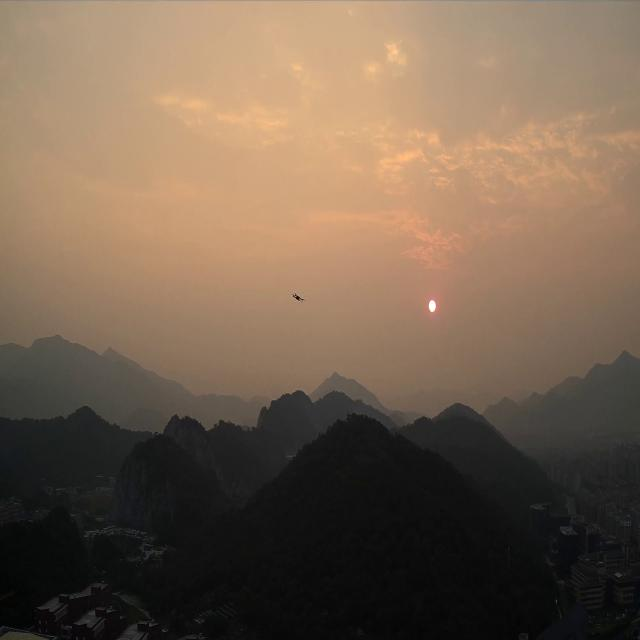UAV: (291, 292, 305, 303)
